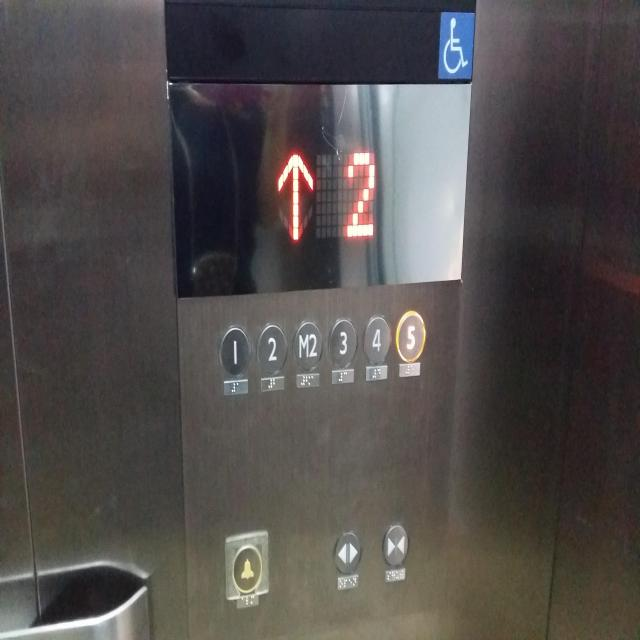1: (218, 324, 252, 378)
2: (256, 322, 288, 376)
3: (327, 316, 358, 370)
4: (362, 313, 392, 366)
5: (395, 308, 427, 364)
M2: (292, 318, 323, 372)
alarm: (224, 528, 270, 602)
close: (382, 522, 410, 570)
led: (166, 76, 472, 300), (438, 10, 477, 84)
open: (333, 528, 361, 574)
